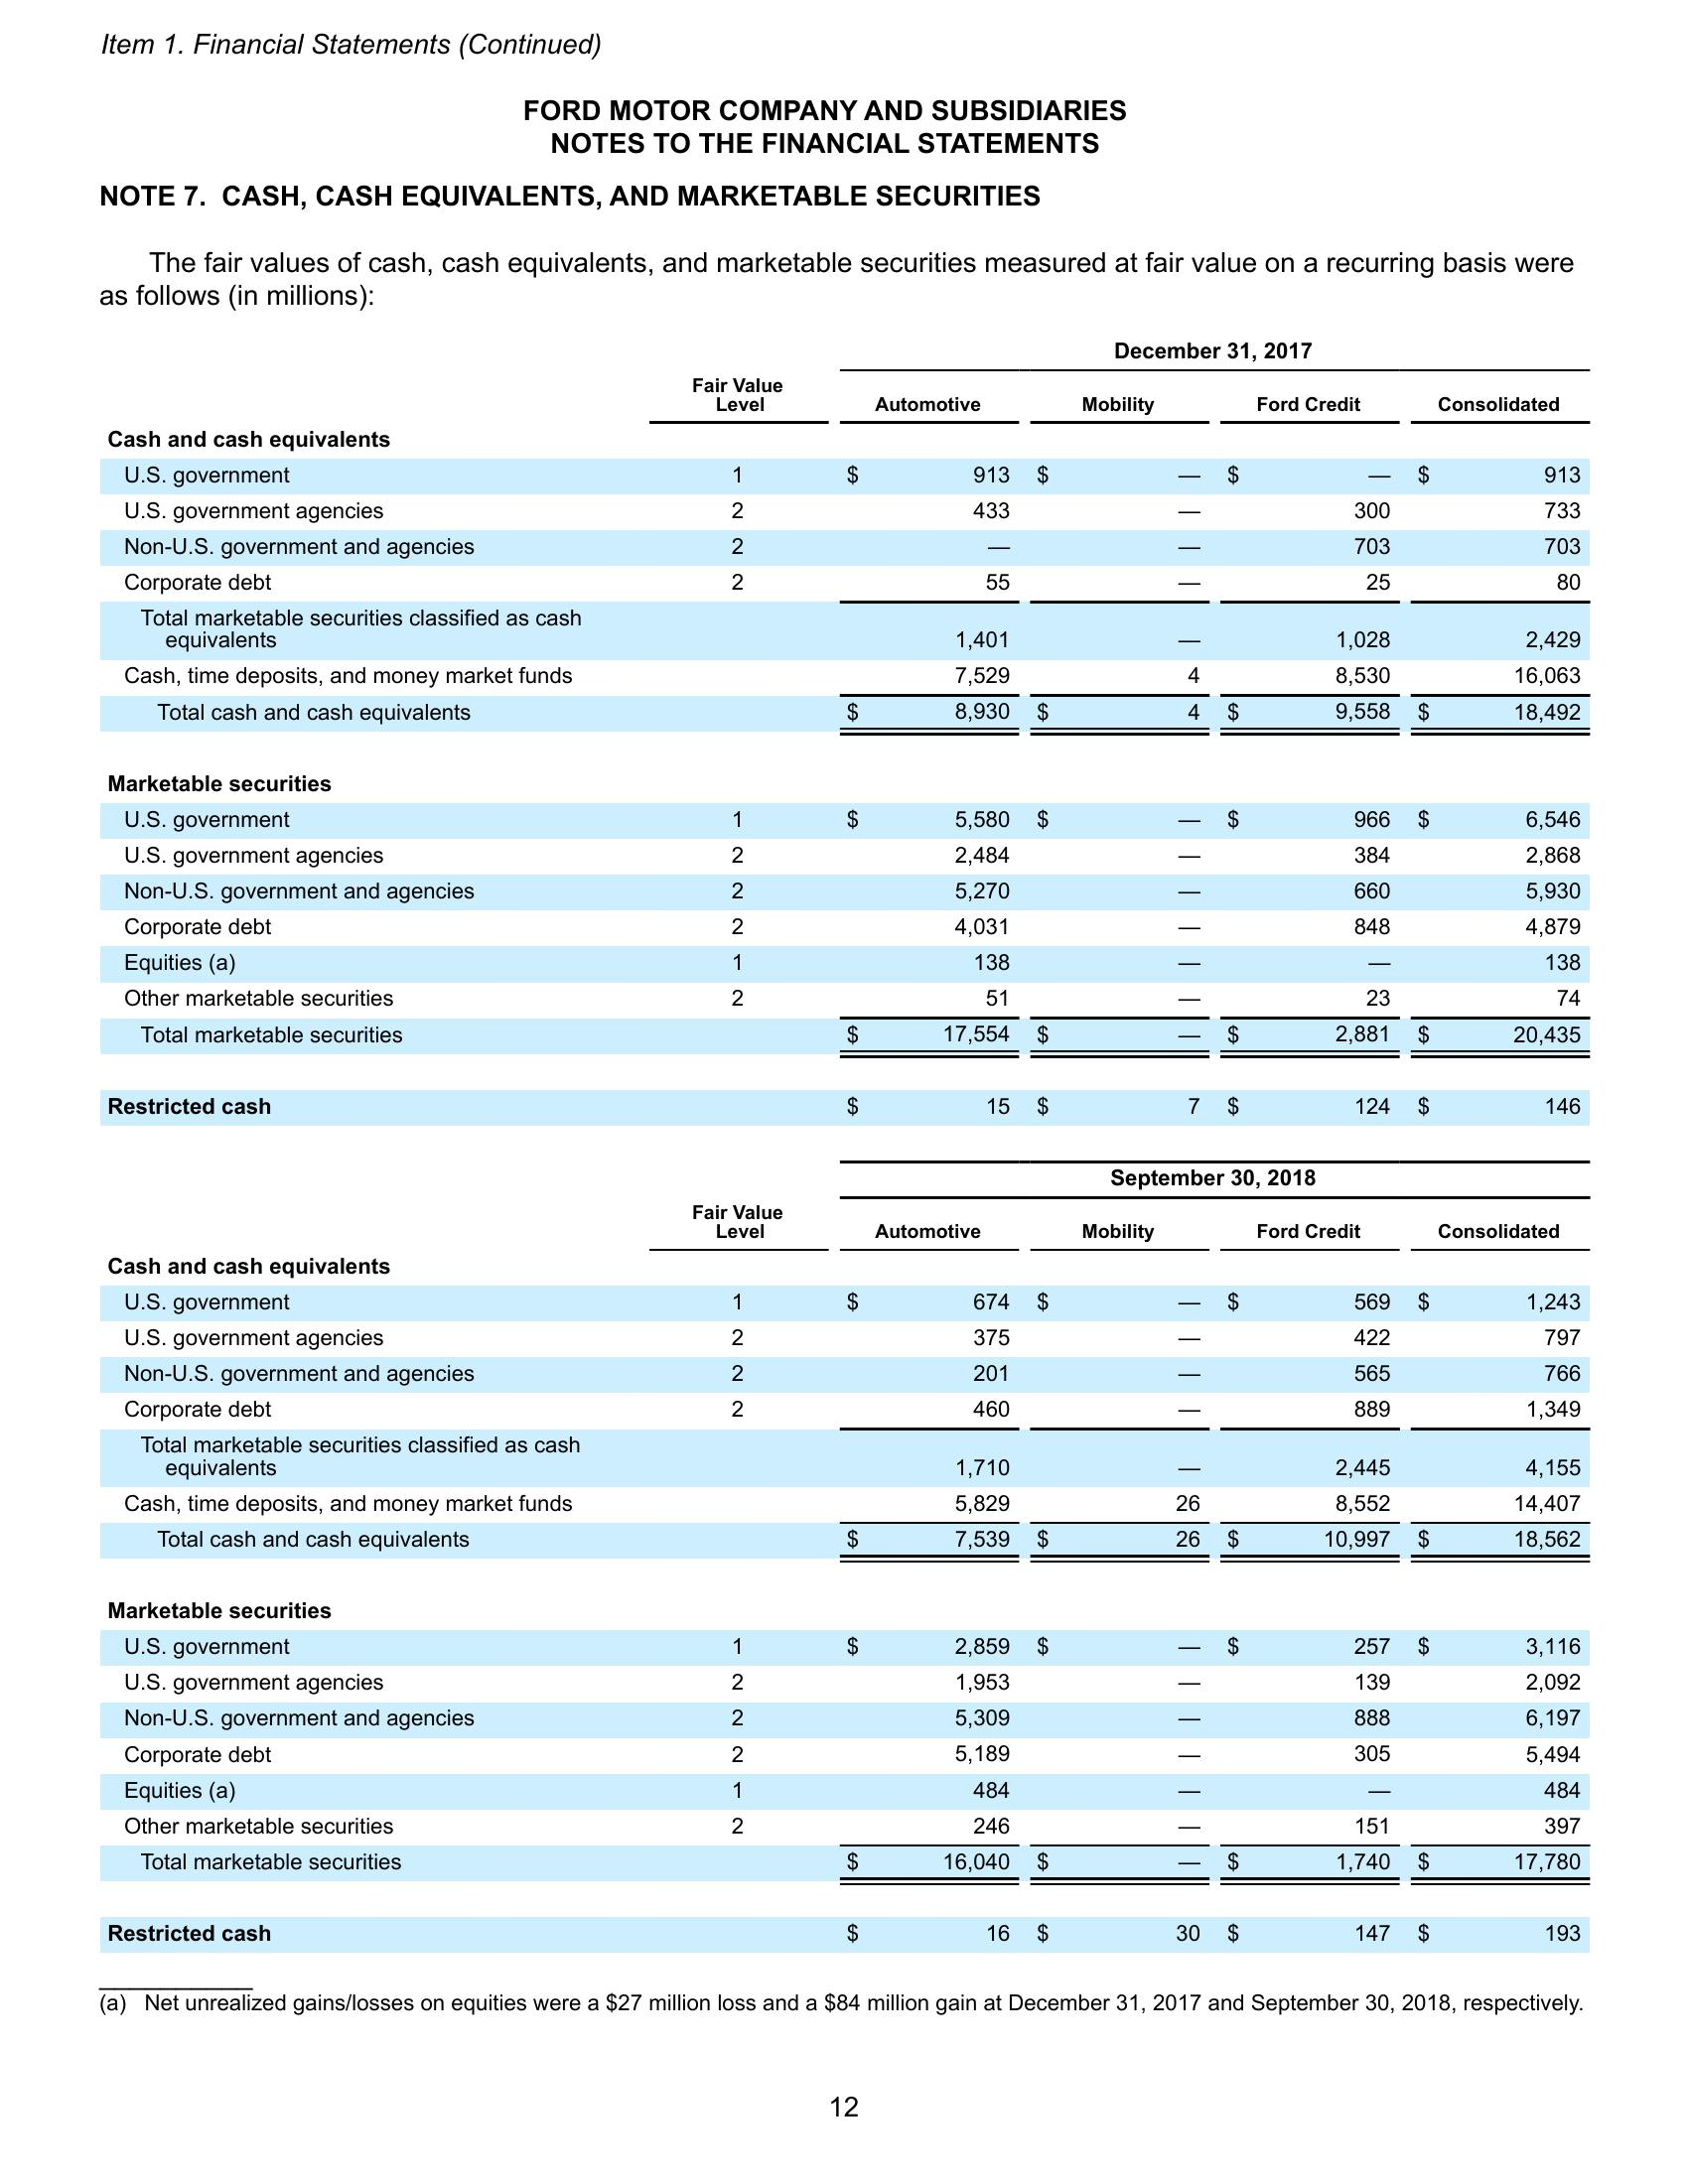table: (94, 326, 1599, 1135), (105, 1154, 1594, 1957)
